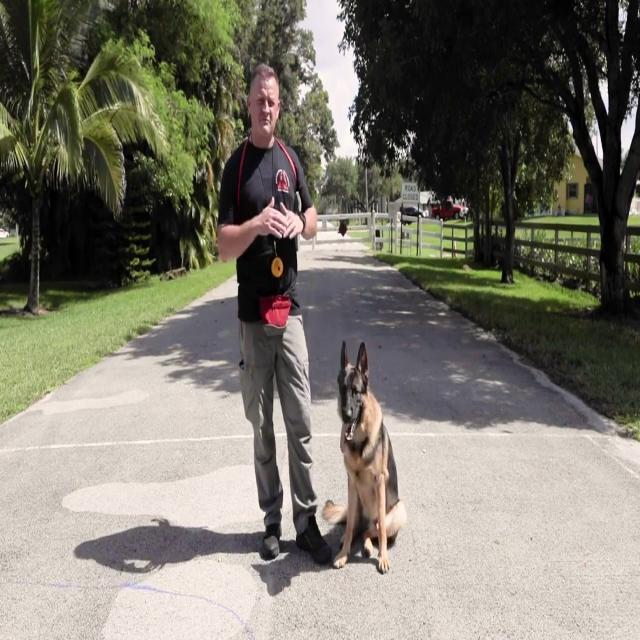Unleashed_Dog: (251, 312, 407, 574)
